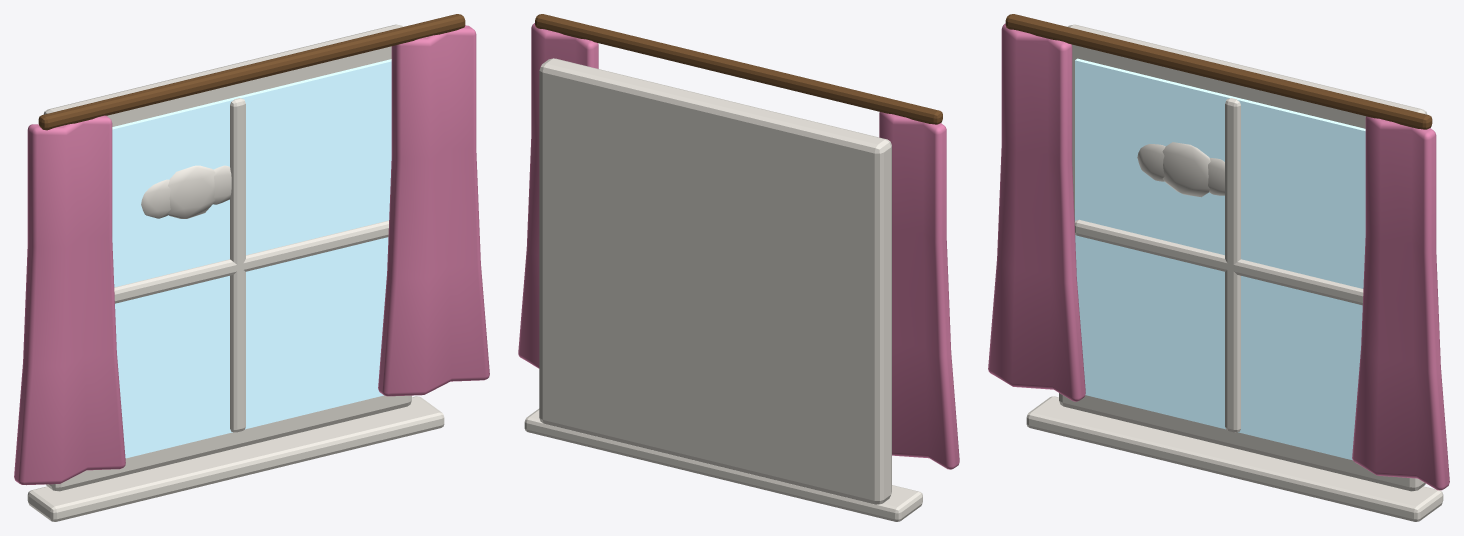
Rendered from janela.glb.
3 views of the same model, side by side, from view 1: azimuth 30°, elevation 25°; view 2: azimuth 150°, elevation 25°; view 3: azimuth 330°, elevation 25° (orthographic). The views are drawn at different scales.
Parts seen in each view (by area): view 1: janela; view 2: janela; view 3: janela.
Boxes of the visible parts, box(x1,y1,x2,y2) form: janela: box(14, 14, 489, 521); janela: box(518, 14, 959, 521); janela: box(988, 14, 1449, 521).
Size of the model in its own units: 2.19 by 1.87 by 0.3297.
